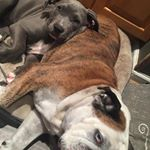puppy: (1, 60, 134, 150), (1, 3, 102, 61)
